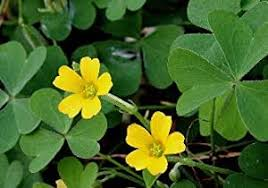clover: (165, 1, 268, 139), (18, 88, 107, 176)
yellow wood sorrel: (124, 110, 186, 178), (52, 56, 114, 119)
